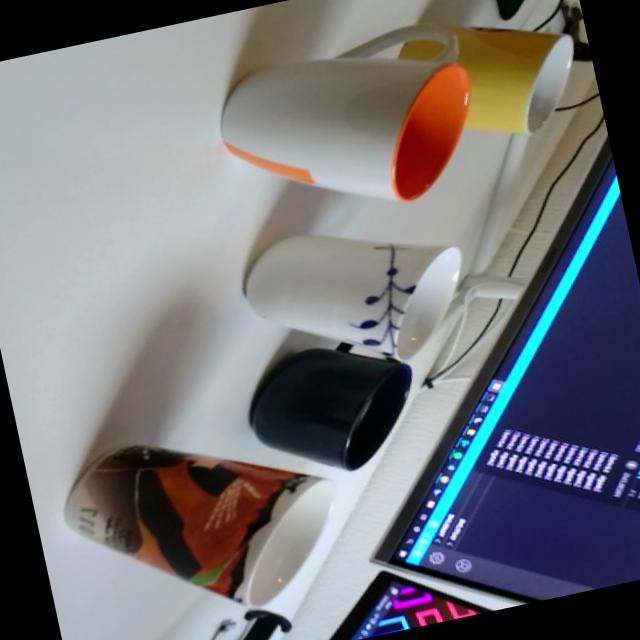Cocio Cup: (392, 0, 591, 157)
Cup: (240, 328, 428, 489)
Halloween cup: (47, 396, 359, 640)
Hand painted cup: (232, 198, 482, 390)
White Cup: (204, 15, 488, 238)
